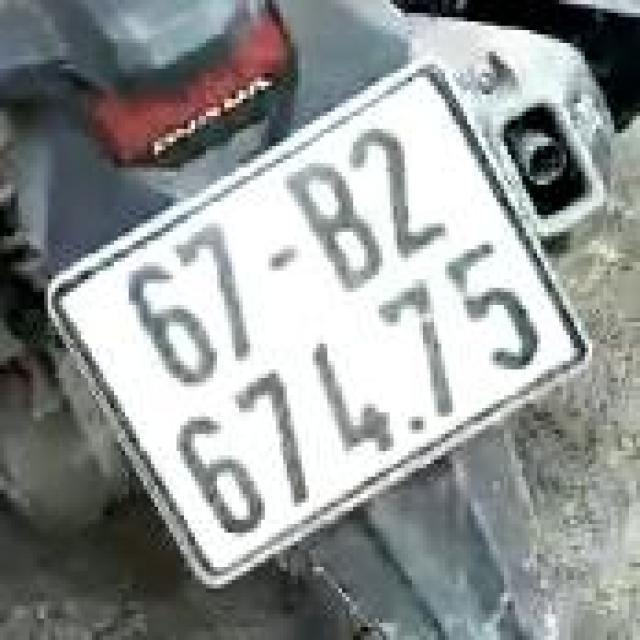2: (341, 115, 462, 267)
4: (298, 331, 410, 474)
5: (436, 229, 554, 387)
6: (161, 399, 285, 560), (114, 254, 229, 403)
7: (360, 271, 485, 430), (167, 213, 284, 368), (230, 356, 337, 514)
B: (275, 148, 399, 304)
